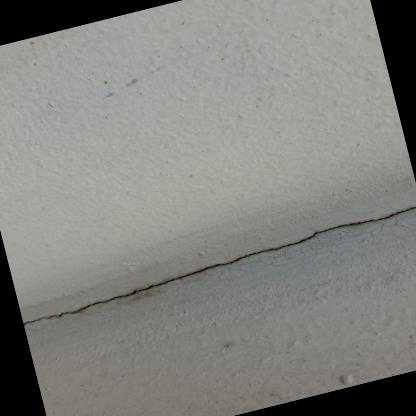crack: (22, 204, 416, 329)
